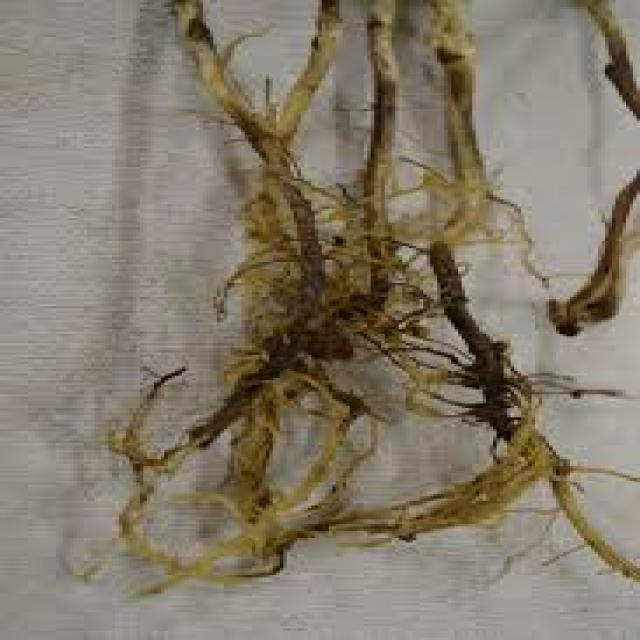root_rot: (122, 22, 616, 558)
